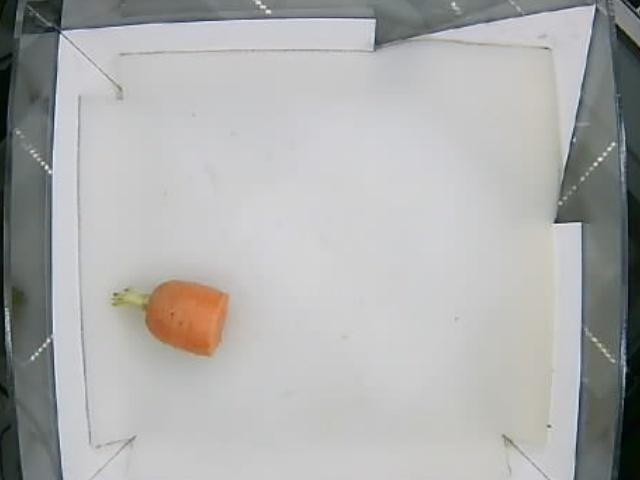Carrot: (110, 282, 228, 349)
